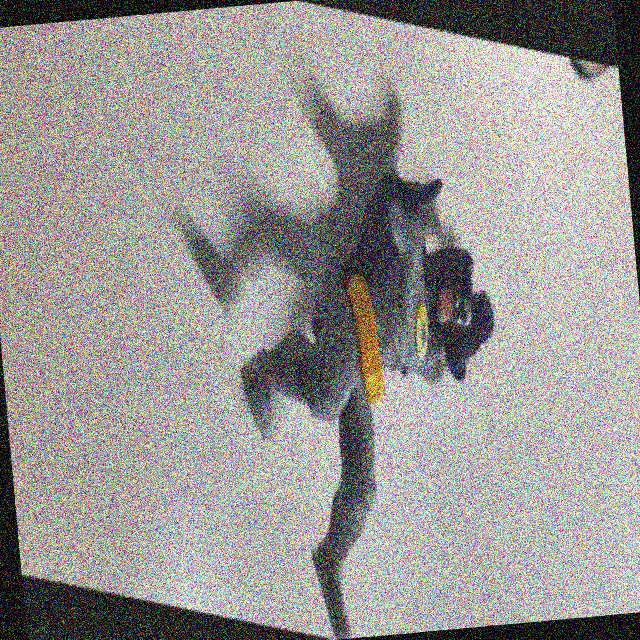Batman: (201, 64, 538, 640)
